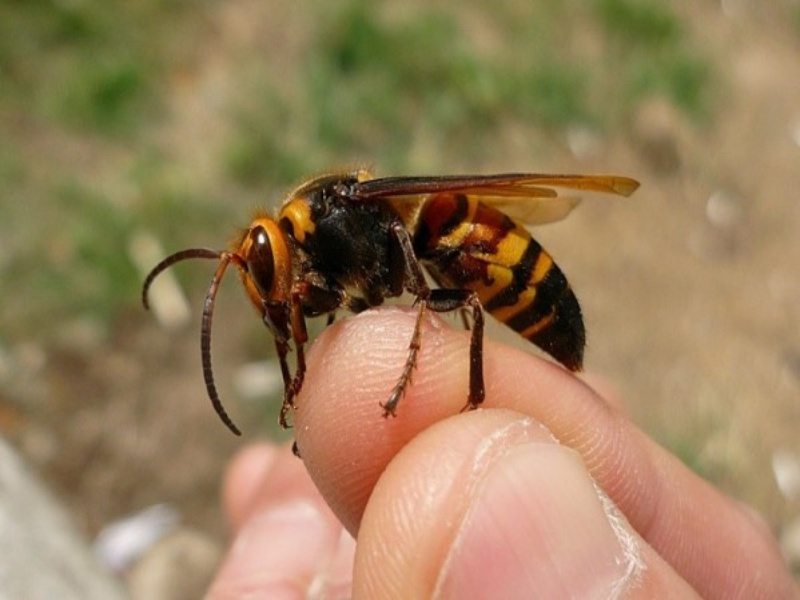asian_giant_hornet: (140, 165, 589, 374)
